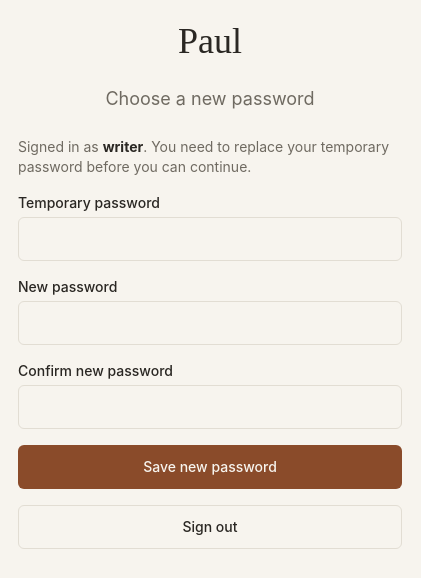
Scenario: change password page › shows a wrong current password against that field
This screenshot has width=421, height=578.
Type "nope" into the password field labelled "Temporary password" at (210, 239), box [18,217,402,261]
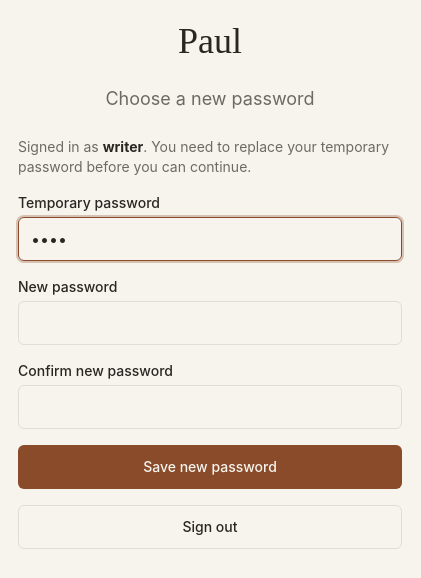
Type "a-much-better-one" into the password field labelled "New password" at (210, 323), box [18,301,402,345]
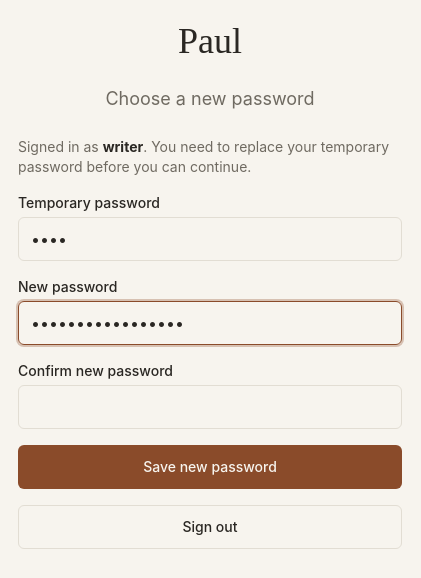
Type "a-much-better-one" into the password field labelled "Confirm new password" at (210, 407), box [18,385,402,429]
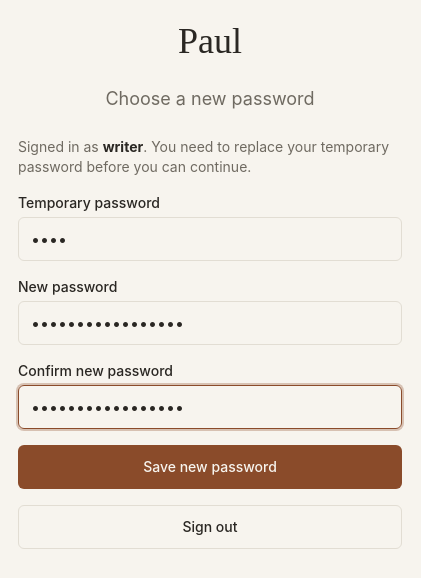
Click the button "Save new password" at (210, 467), box [18,445,402,489]
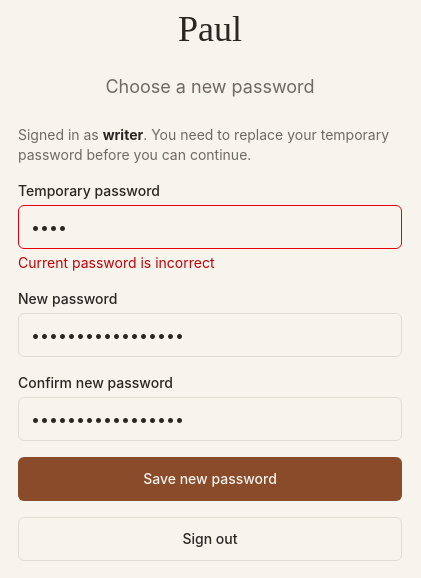
Expected: the text "Current password is incorrect" is shown, [18,254,214,271]
